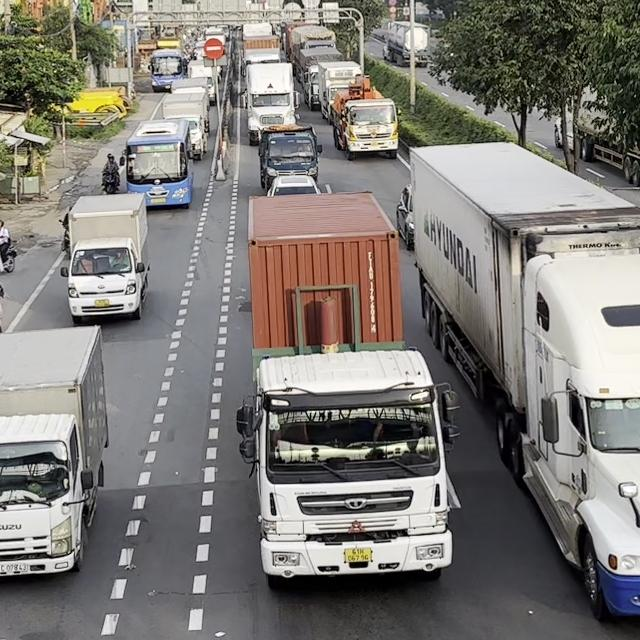bus: (121, 119, 193, 209), (149, 48, 187, 92)
car: (266, 173, 322, 197), (395, 184, 414, 250)
motorcycle: (100, 166, 120, 194)
truck: (407, 140, 639, 621), (238, 192, 462, 582), (0, 323, 108, 579), (60, 191, 150, 323), (330, 76, 400, 160), (243, 61, 299, 146), (257, 123, 323, 190)
